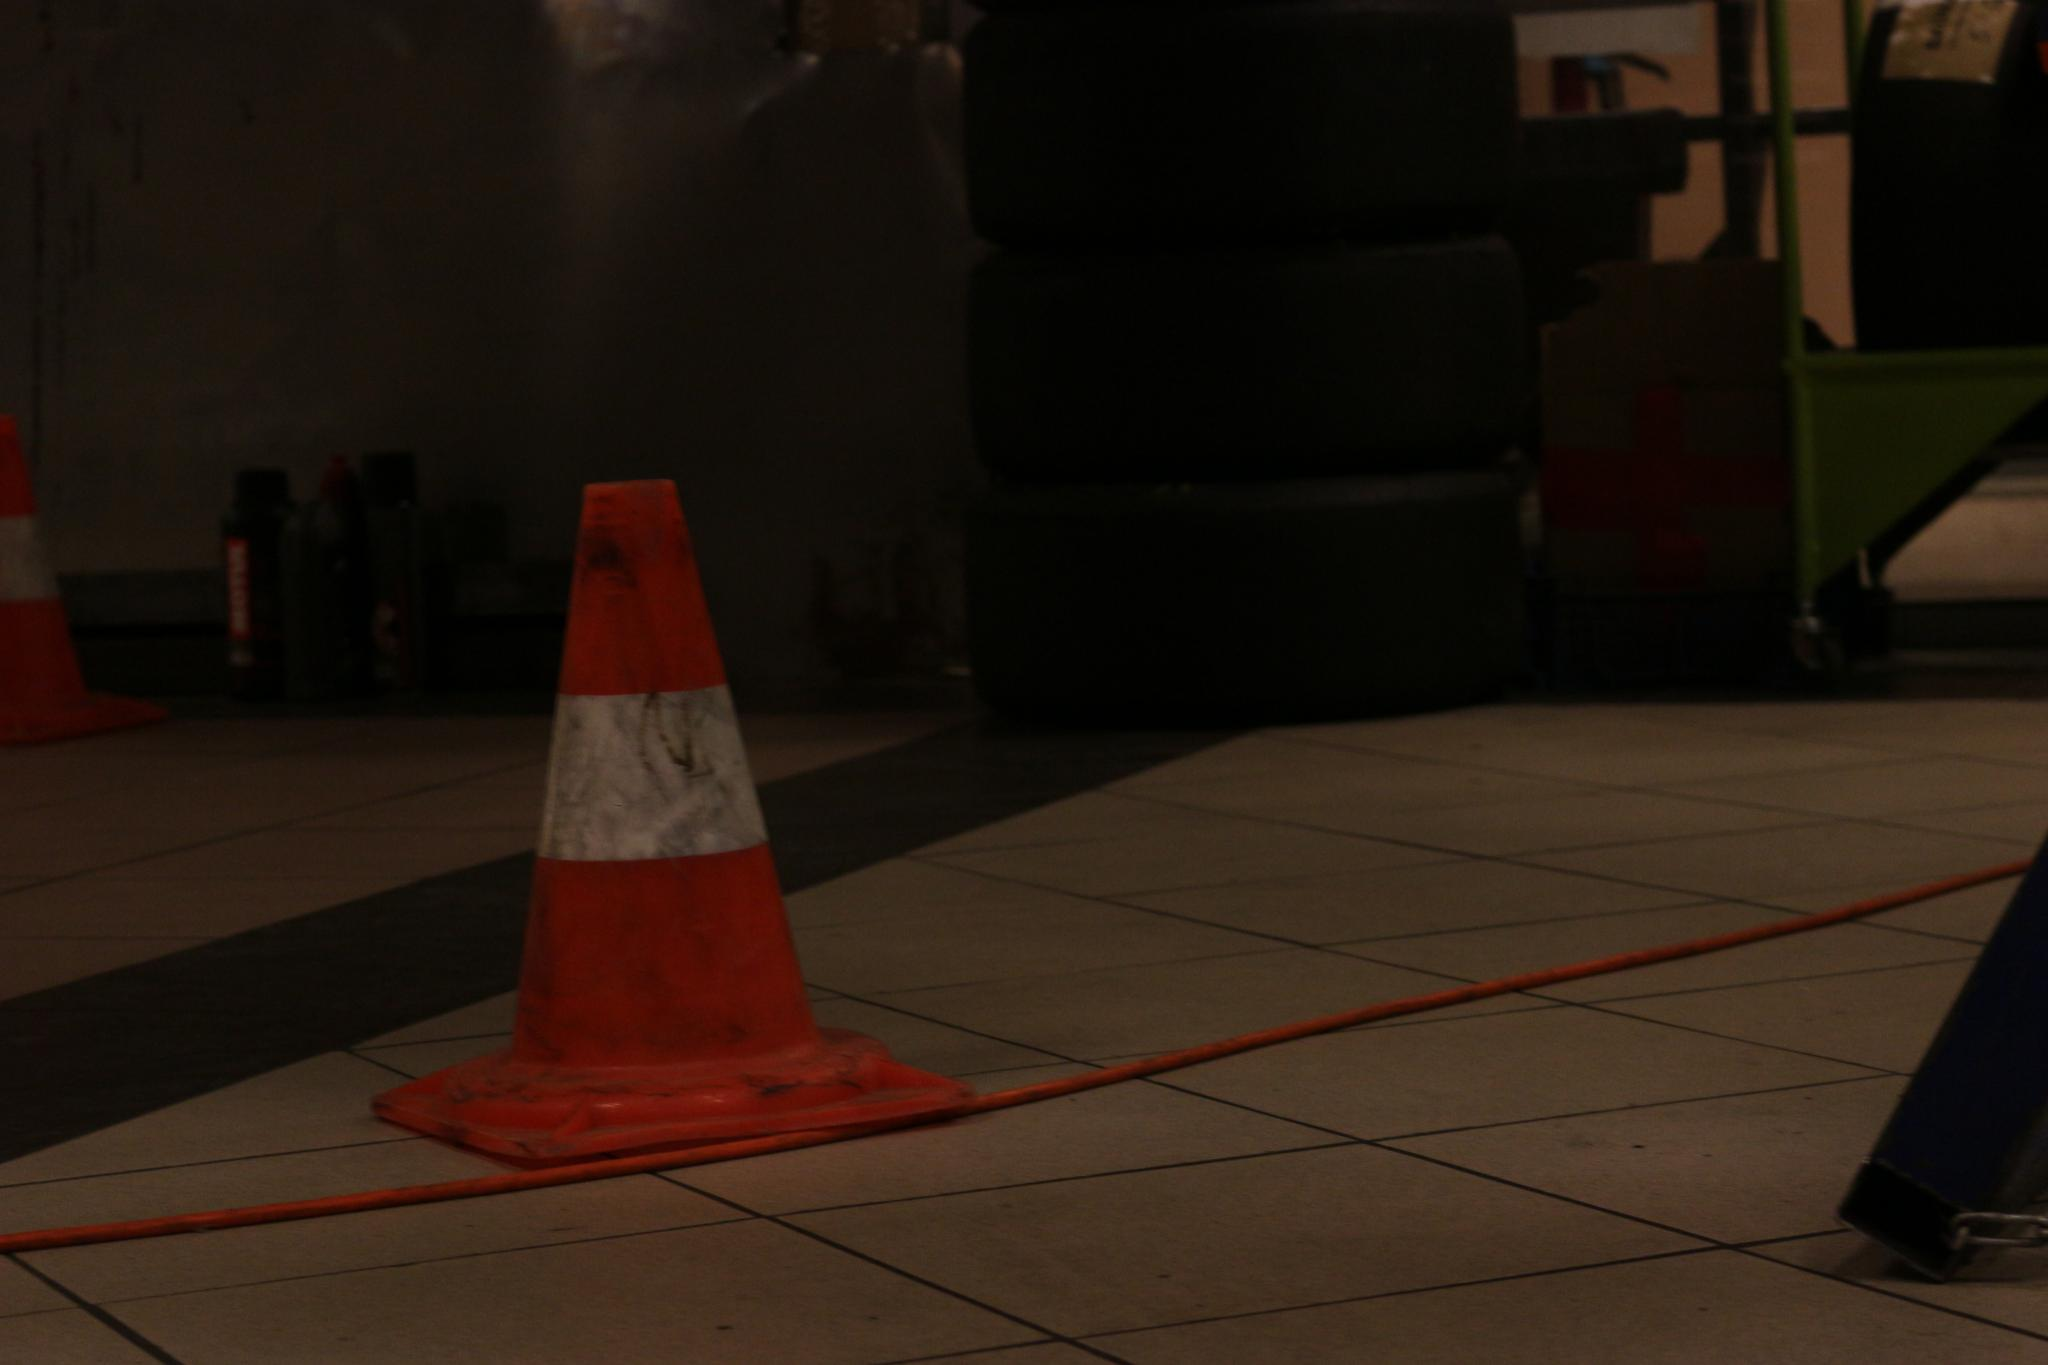Orange_Cone: (397, 463, 897, 1135)
